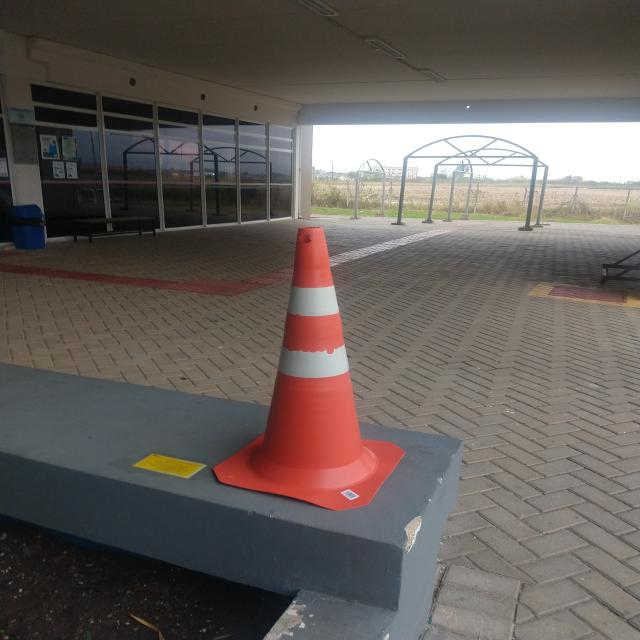cone: (250, 193, 383, 495)
